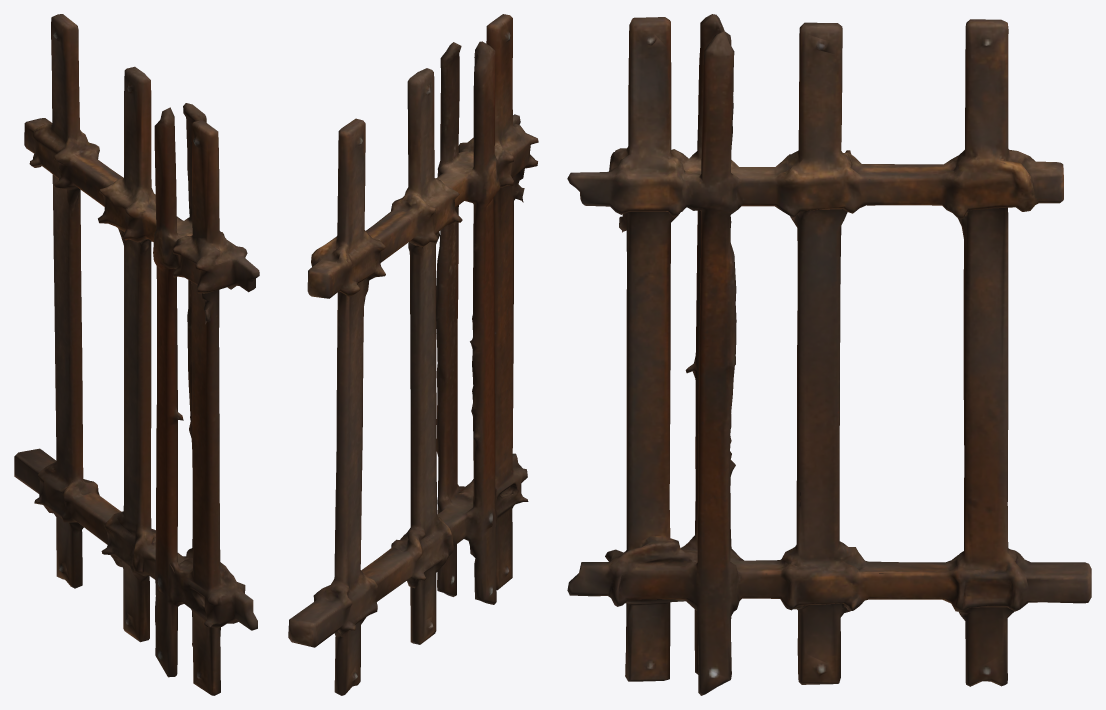
The model's file is bars.glb.
3 renders of one model, left to right at view 1: azimuth 30°, elevation 25°; view 2: azimuth 150°, elevation 25°; view 3: azimuth 270°, elevation 25°, orthographic. The views are drawn at different scales.
Visible parts, largest first — view 1: bars; view 2: bars; view 3: bars.
Boxes of the visible parts, bbox=[...] form: bars: bbox=[14, 14, 259, 695]; bars: bbox=[288, 14, 538, 695]; bars: bbox=[567, 14, 1091, 695].
Size of the model in its own units: 0.2842 by 2.7 by 1.94.
Materials: 1 (1 with a texture image).
